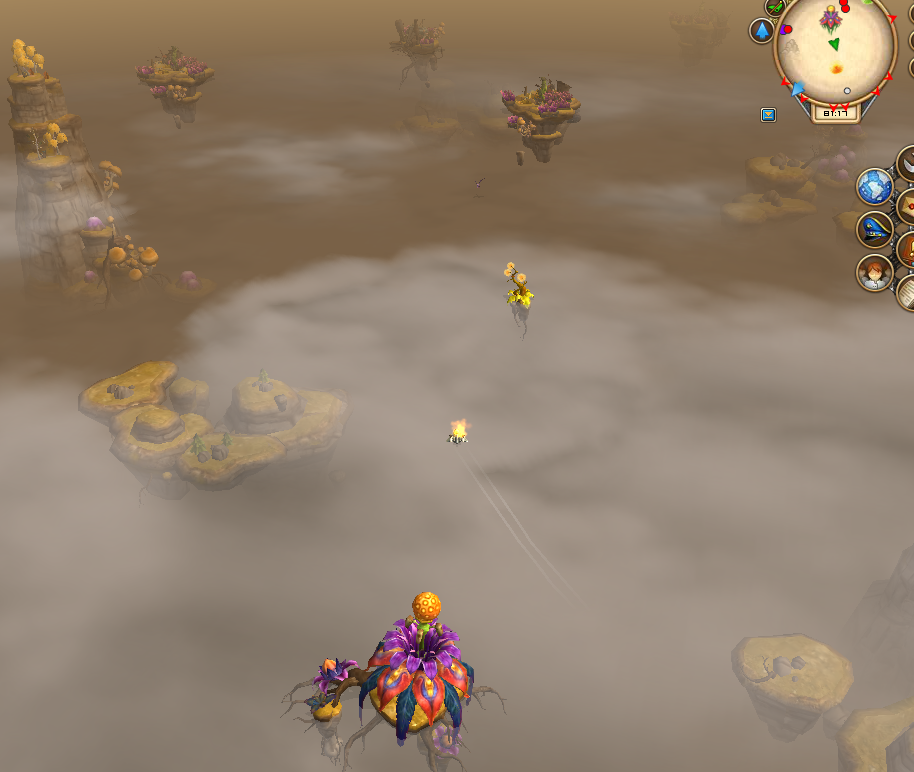dandelion-full: (496, 258, 540, 322)
